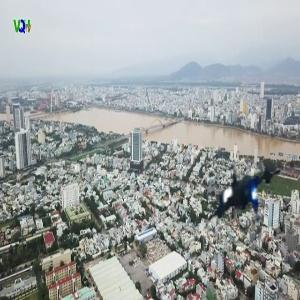drone: (194, 154, 294, 254)
